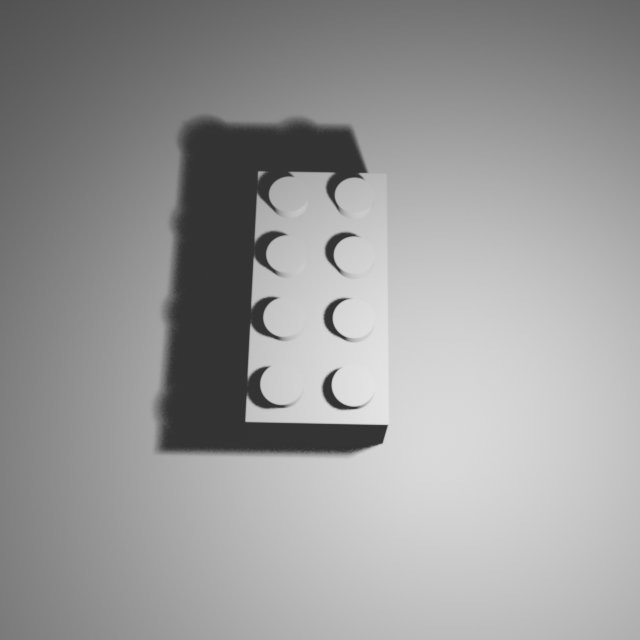lego_2x4: (245, 165, 390, 444)
